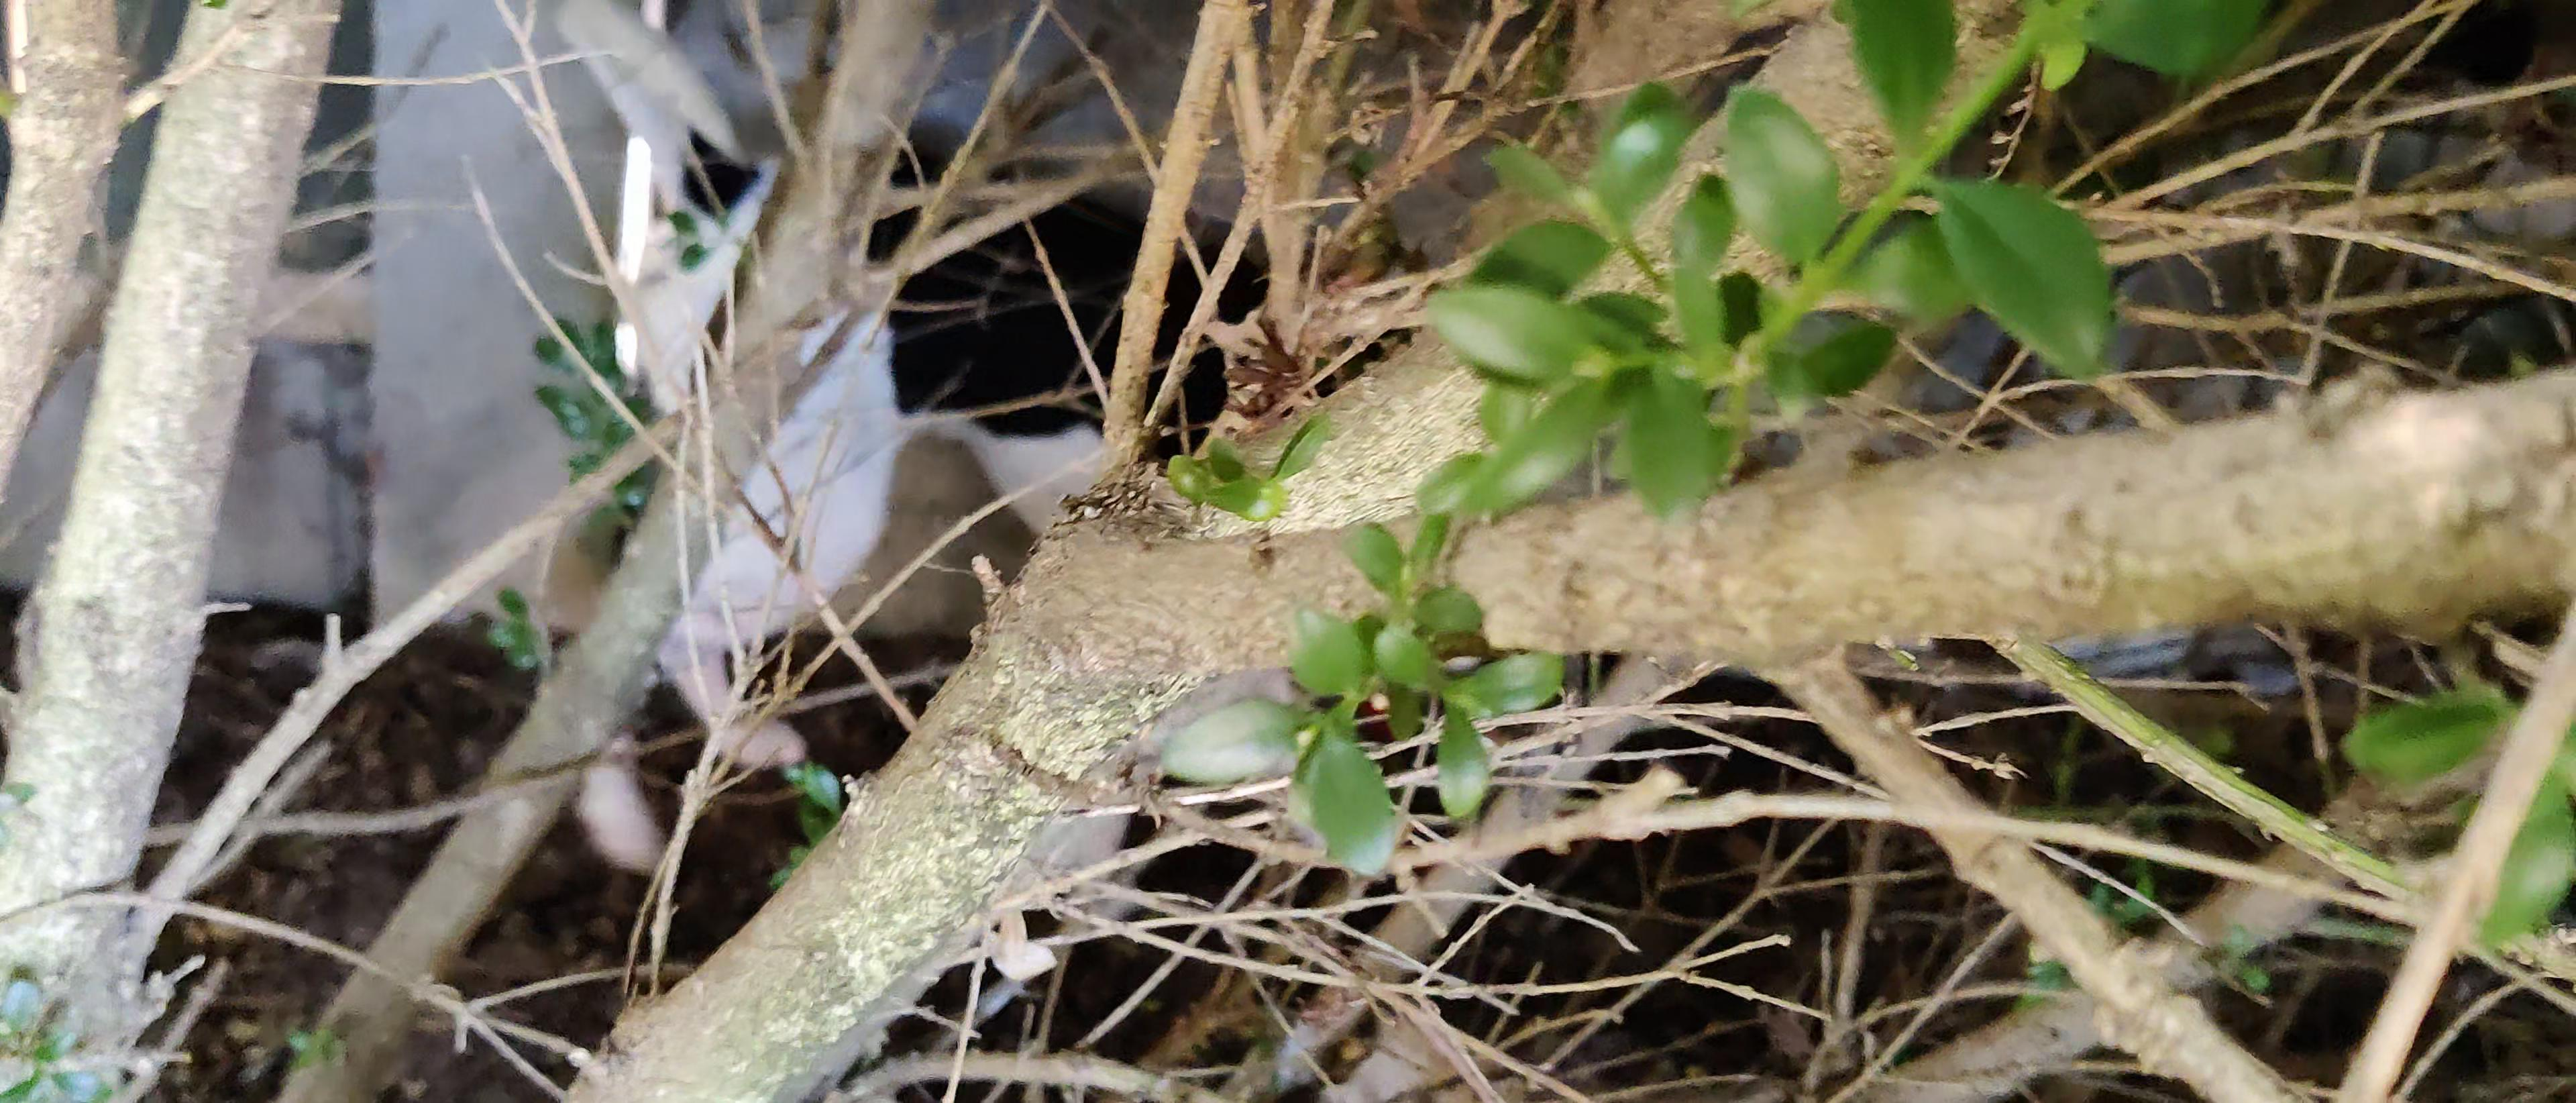Dog: (532, 0, 1649, 888)
